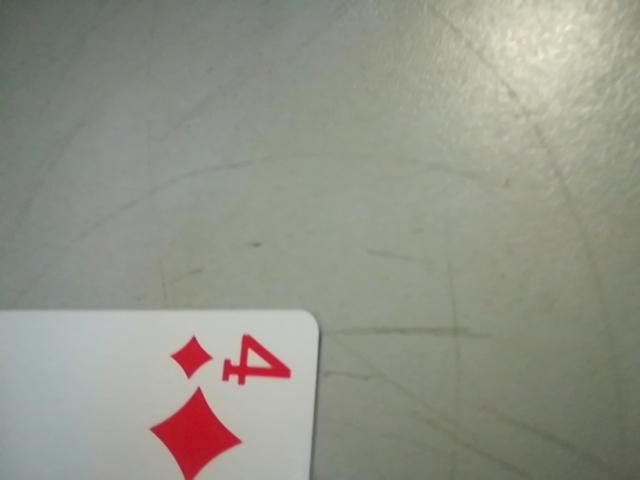fk 4: (171, 328, 303, 393)
